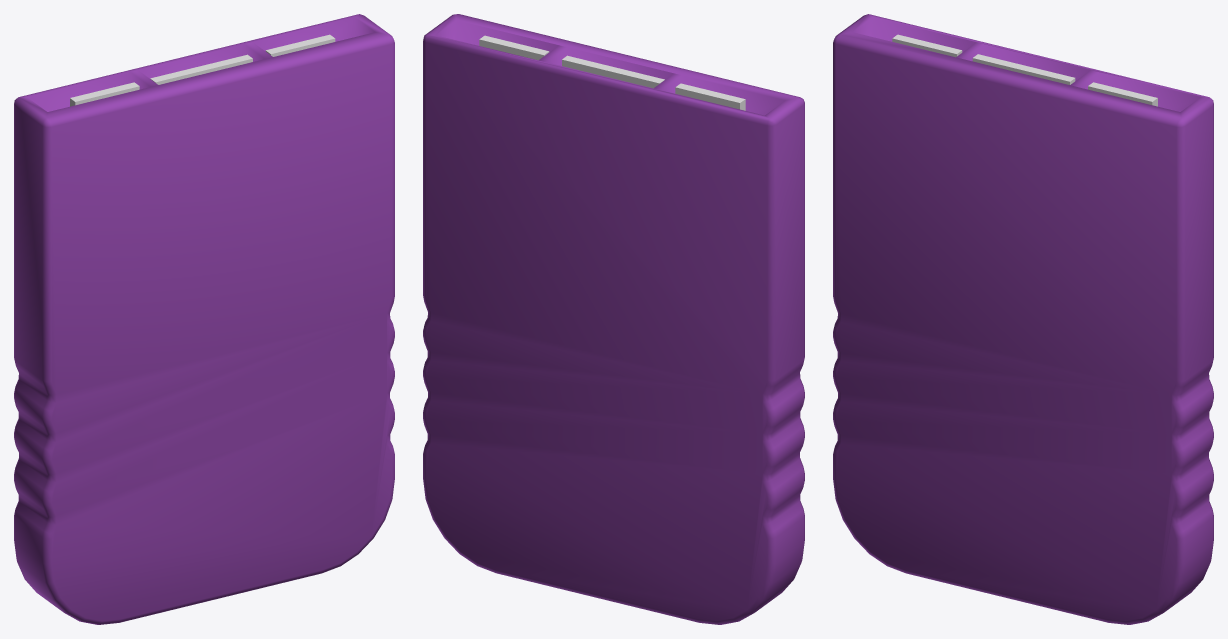
The model's file is archive3.glb.
The picture shows the model from 3 angles, left to right: view 1: azimuth 30°, elevation 25°; view 2: azimuth 150°, elevation 25°; view 3: azimuth 330°, elevation 25°; orthographic projection.
Parts seen in each view (by area): view 1: Cube, Cube.001; view 2: Cube, Cube.001; view 3: Cube, Cube.001.
Boxes of the visible parts, left/top/right/bottom form: Cube: left=14, top=14, right=394, bottom=624; Cube.001: left=70, top=34, right=335, bottom=106; Cube: left=423, top=14, right=804, bottom=624; Cube.001: left=479, top=35, right=745, bottom=110; Cube: left=833, top=14, right=1213, bottom=624; Cube.001: left=892, top=34, right=1157, bottom=106.
Bounding box in the file's own units: 9.13 × 12.92 × 1.54.
